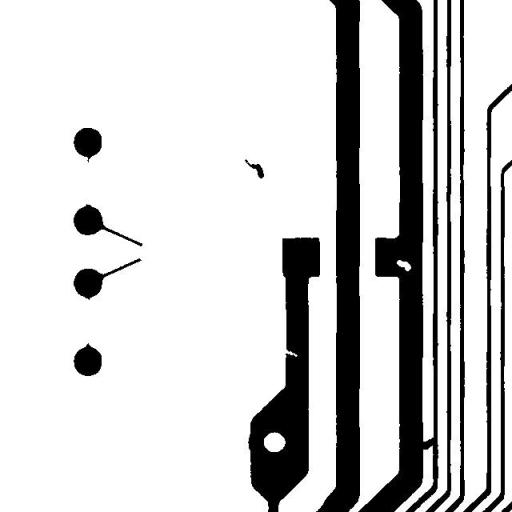copper: (237, 151, 271, 186)
mousebite: (275, 342, 305, 364)
open: (74, 290, 98, 352), (76, 149, 98, 212), (130, 238, 154, 267)
pin-hole: (389, 252, 418, 278)
short: (413, 430, 444, 456)
